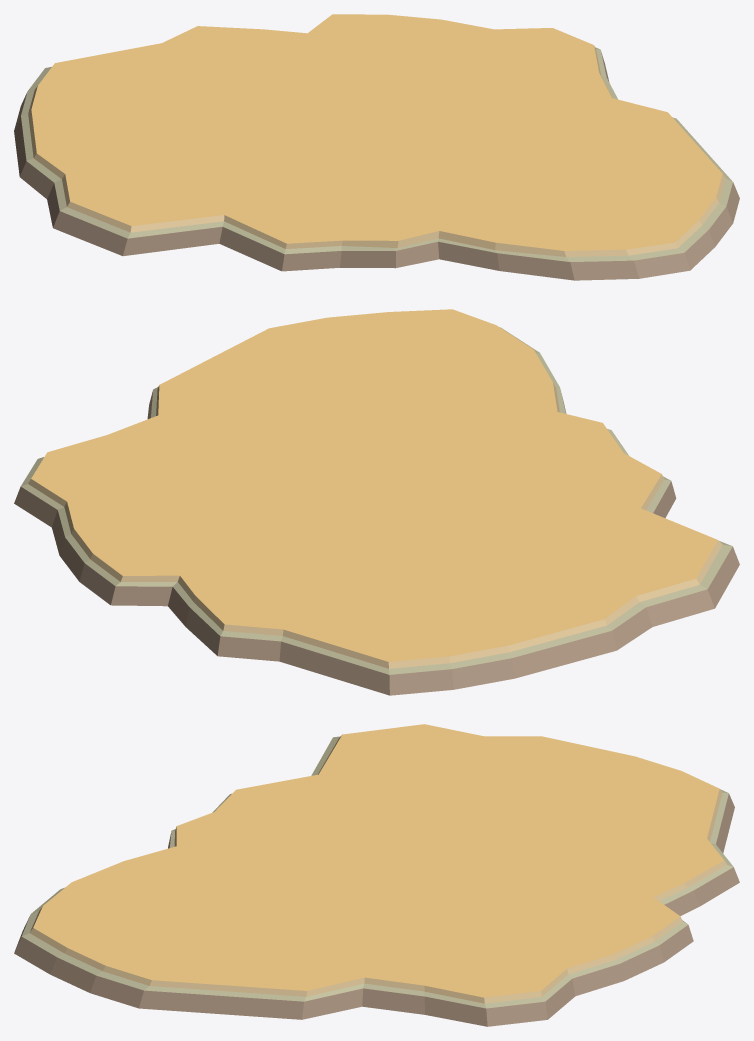
Rendered from groundPlatform2-brown.fbx.
3 renders of one model, top to bottom at view 1: azimuth 30°, elevation 25°; view 2: azimuth 150°, elevation 25°; view 3: azimuth 270°, elevation 25°, orthographic. The views are drawn at different scales.
Visible parts, largest first — view 1: Cylinder; view 2: Cylinder; view 3: Cylinder.
Part boxes in pixels (x1,y1,x2,y2): Cylinder: (14, 14, 739, 280); Cylinder: (14, 309, 739, 695); Cylinder: (14, 724, 739, 1026).
Bounding box in the file's own units: 980 × 43.26 × 1043.
